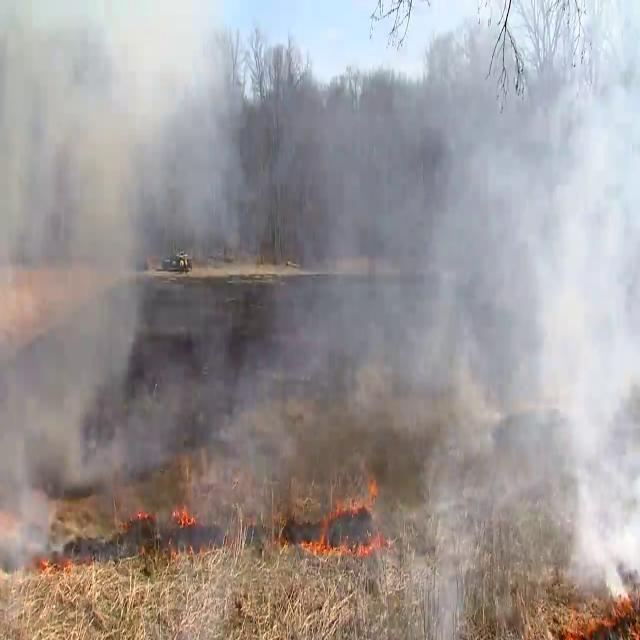Fire: (562, 596, 638, 640), (298, 534, 382, 556), (332, 480, 380, 518), (173, 508, 201, 528)
